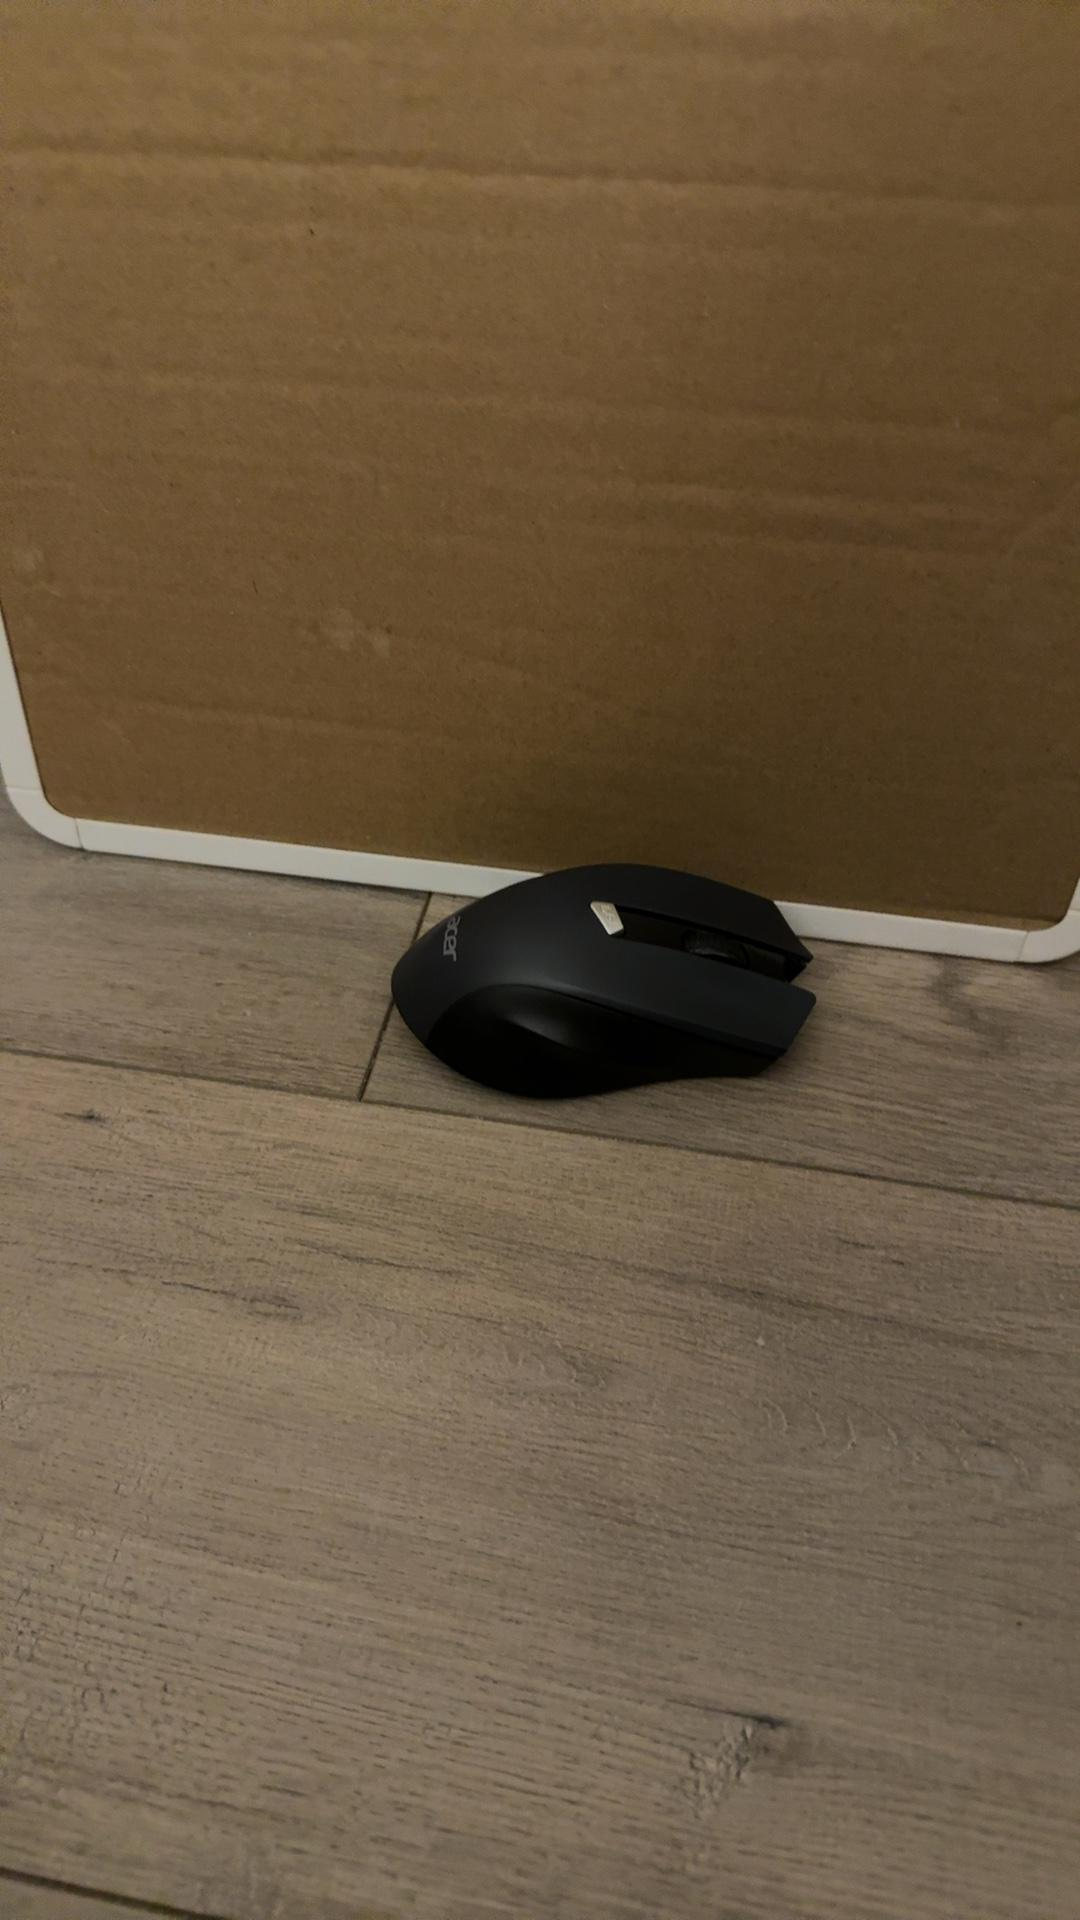Mouse: (335, 855, 860, 1116)
